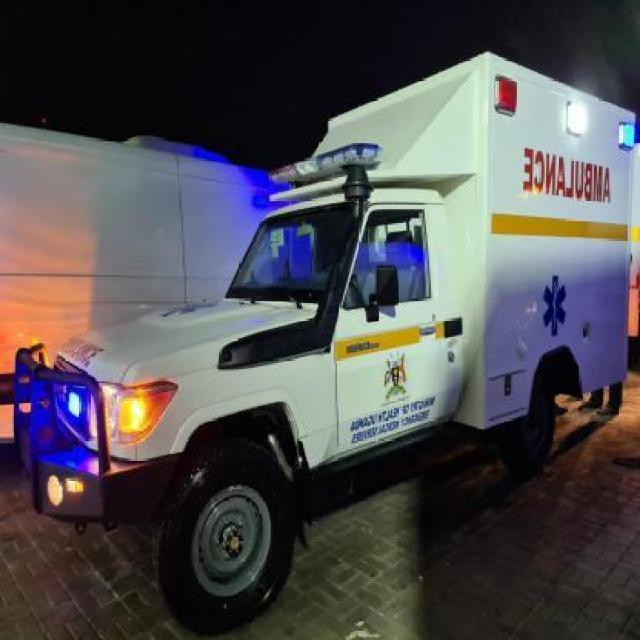emergency: (9, 50, 635, 634)
